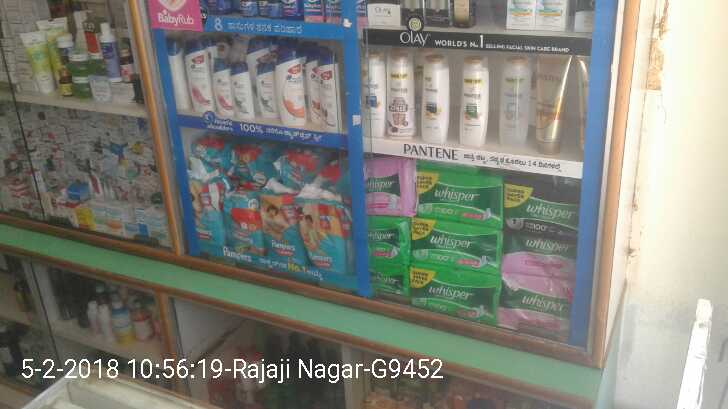beauty: (529, 52, 570, 149), (457, 56, 489, 142), (272, 45, 303, 128), (386, 50, 415, 136), (421, 55, 448, 147), (500, 62, 531, 142), (181, 37, 211, 114), (318, 54, 340, 134), (232, 61, 253, 123), (254, 61, 274, 118), (214, 60, 231, 118)
pharmacy: (413, 172, 507, 230), (498, 173, 590, 230), (498, 222, 584, 279), (497, 277, 574, 340), (298, 187, 347, 279), (409, 223, 502, 270), (414, 269, 488, 328), (222, 182, 260, 262), (355, 161, 409, 216), (264, 193, 300, 272), (188, 181, 225, 249), (363, 215, 405, 273)
